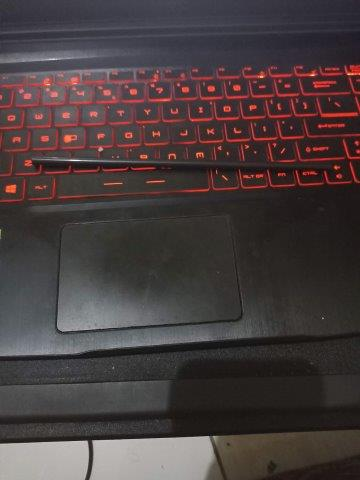sedotan: (32, 156, 330, 171)
